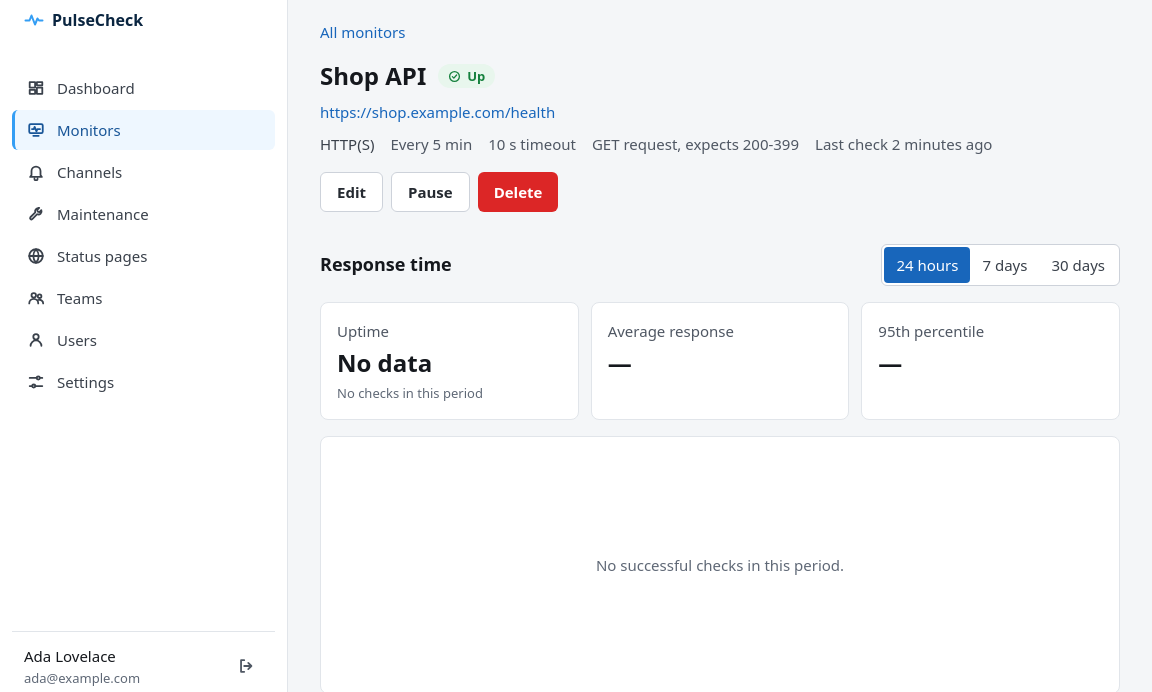
MonitorDetailPage › edits the monitor from the detail page
This screenshot has width=1152, height=692.
Step 1. Click the button "Edit" → (352, 192), box x1=320 y1=172 x2=383 y2=212
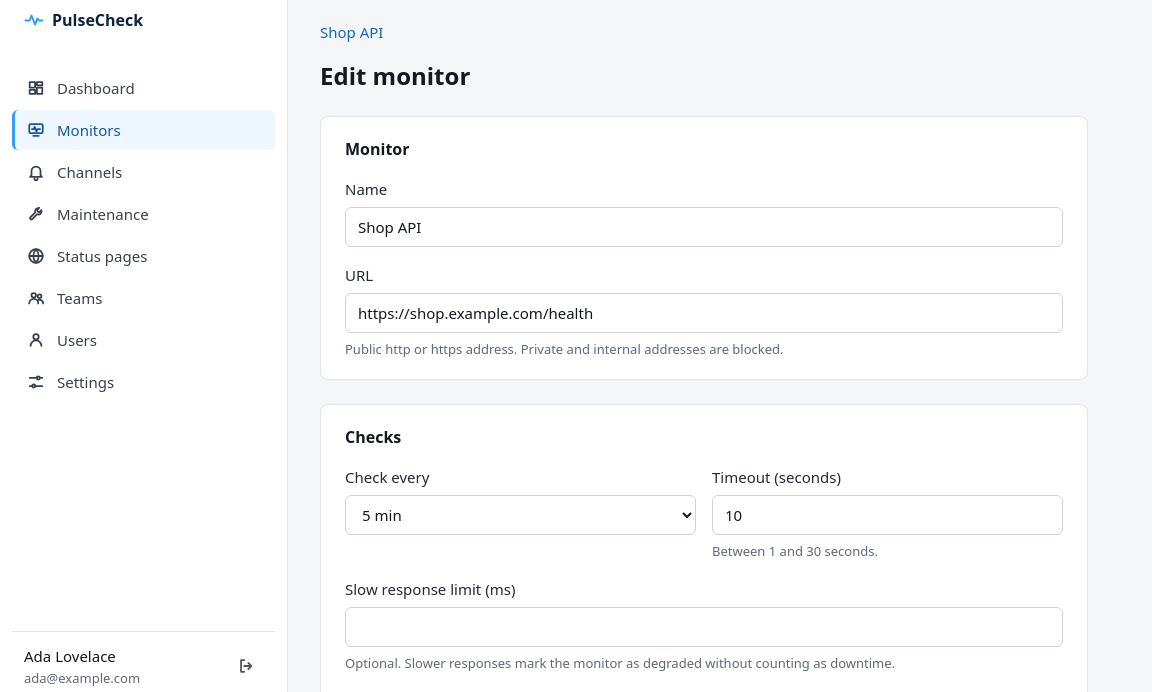
Step 2. Select "10 min" in the dropdown labelled "Check every" → (520, 515), box x1=345 y1=495 x2=696 y2=535
(page scrolled)
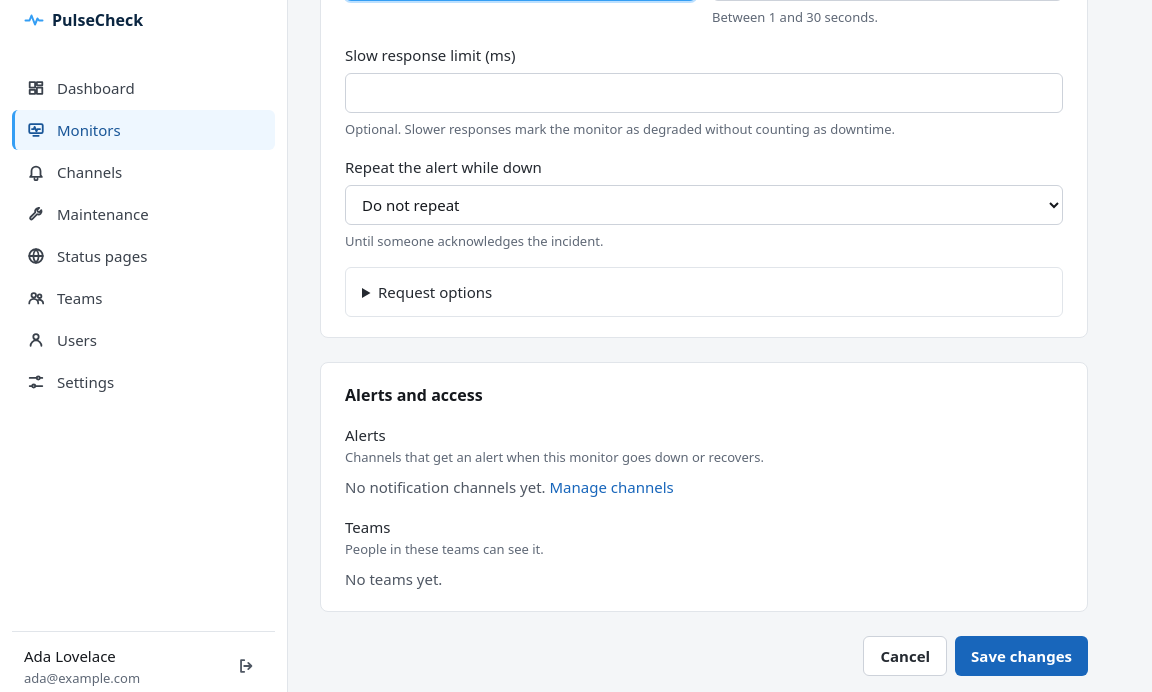
Step 3. Click the button "Save changes" → (1022, 656), box x1=955 y1=636 x2=1088 y2=676
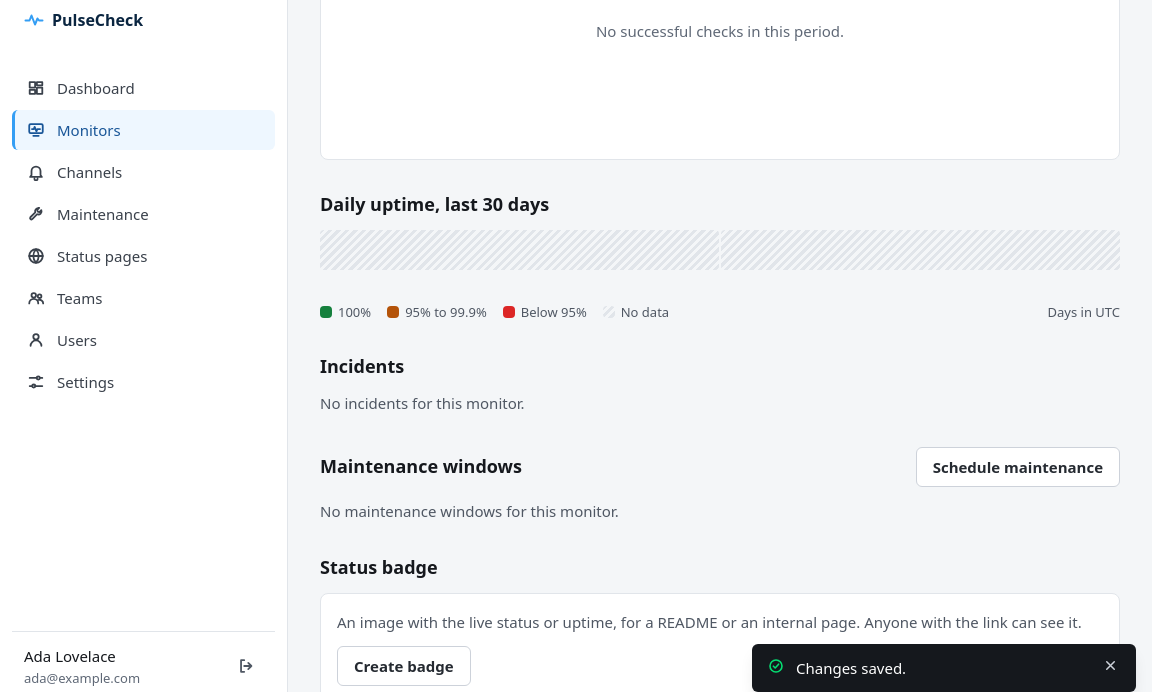
Expected: the text "Changes saved." is shown, x1=796 y1=658 x2=906 y2=678
